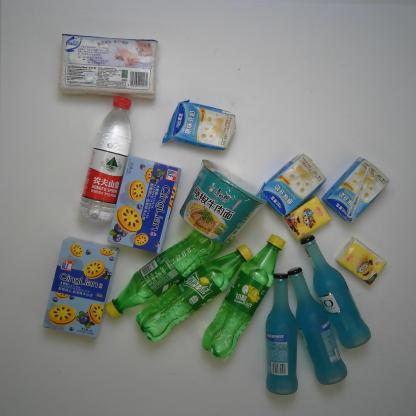Alcohol: (302, 234, 372, 348), (288, 266, 348, 386), (264, 272, 300, 395)
Dessert: (39, 237, 120, 338), (105, 154, 180, 257)
Drink: (102, 225, 228, 317), (135, 244, 253, 340), (202, 233, 285, 361), (80, 94, 135, 222)
Instant Noodles: (178, 158, 268, 244)
Milk: (322, 157, 390, 221), (259, 154, 326, 217), (163, 99, 235, 151)
Tissue: (58, 31, 155, 96), (338, 236, 386, 284), (284, 197, 332, 242)
